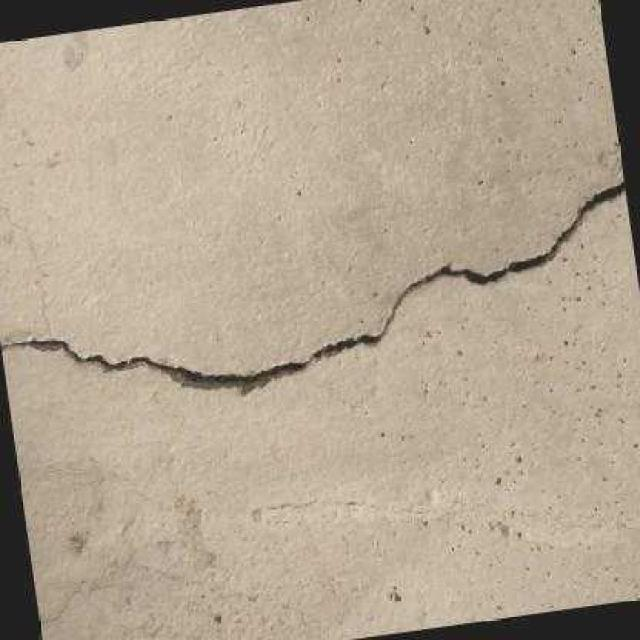D00: (0, 178, 625, 397)
